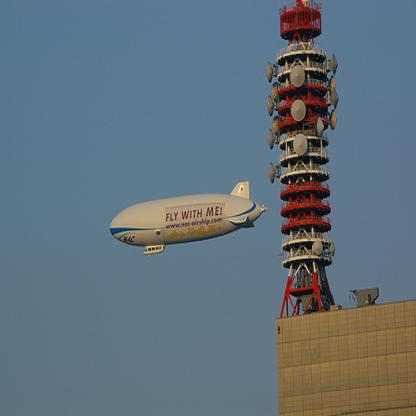Airship: (102, 177, 270, 262)
